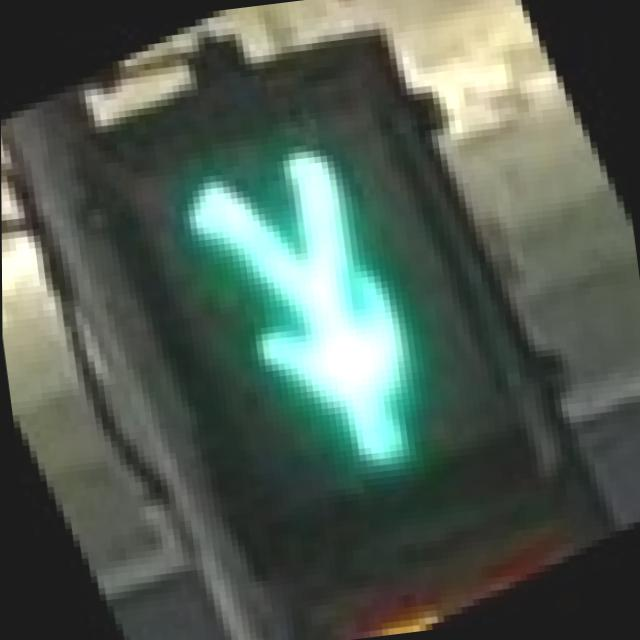green_light: (82, 30, 583, 588)
